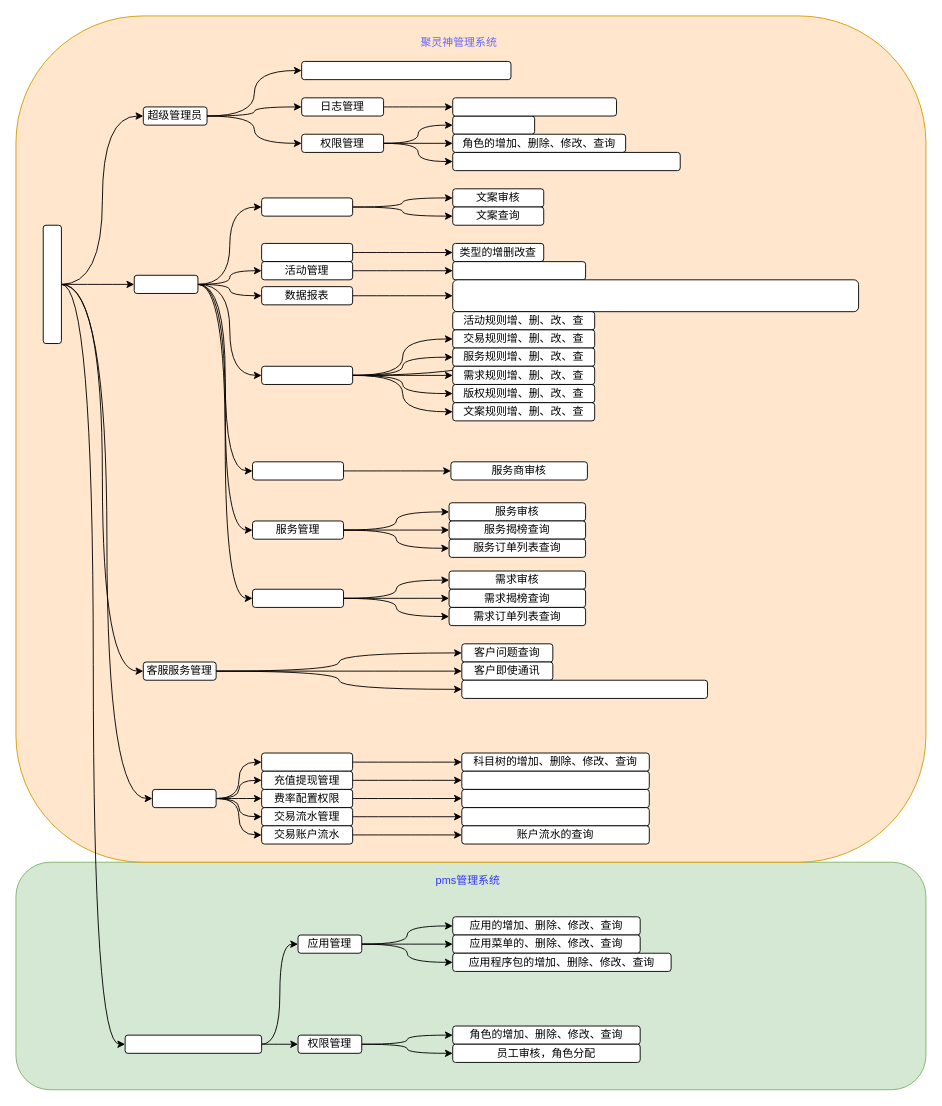
This 942x1106 diagram has some shape labels left out. The shapes that lost their labels are listed below. From the top down, each one's box as (x1, y1, x2, y2) in pixels, then its label:
(301, 61, 511, 80): 所有权限（聚灵神管理系统所有权限）
(452, 115, 535, 134): 操作权限配置
(452, 97, 617, 116): 查询所有管理员的操作日志
(452, 152, 680, 171): 角色配置（配置账号下的角色权限）
(261, 197, 353, 216): 文案审核管理
(261, 243, 353, 262): 类型管理
(452, 261, 586, 280): 活动的增、删、改、查
(42, 224, 61, 344): 聚灵神权限管理分布
(133, 274, 198, 293): 运营管理员
(452, 279, 859, 312): 交易数据报表，用户流量报表、充值报表、文案发布报表，需求发布报表，服务发布报表（以上，按天，月，季度来统计并分析）
(261, 365, 353, 384): 规则管理
(252, 461, 344, 480): 服务商管理
(252, 588, 344, 607): 需求管理
(461, 679, 708, 698): 客户问题便签，增加、删除、修改、查询
(261, 752, 353, 771): 科目管理
(461, 770, 649, 789): 充值规则的增加、删除、修改、查询
(152, 789, 216, 808): 财务管理
(461, 789, 649, 808): 汇率的增加、删除、修改、查询
(461, 807, 649, 826): 交易流水的查询
(124, 1034, 262, 1053): 运维管理（PMS系统）
